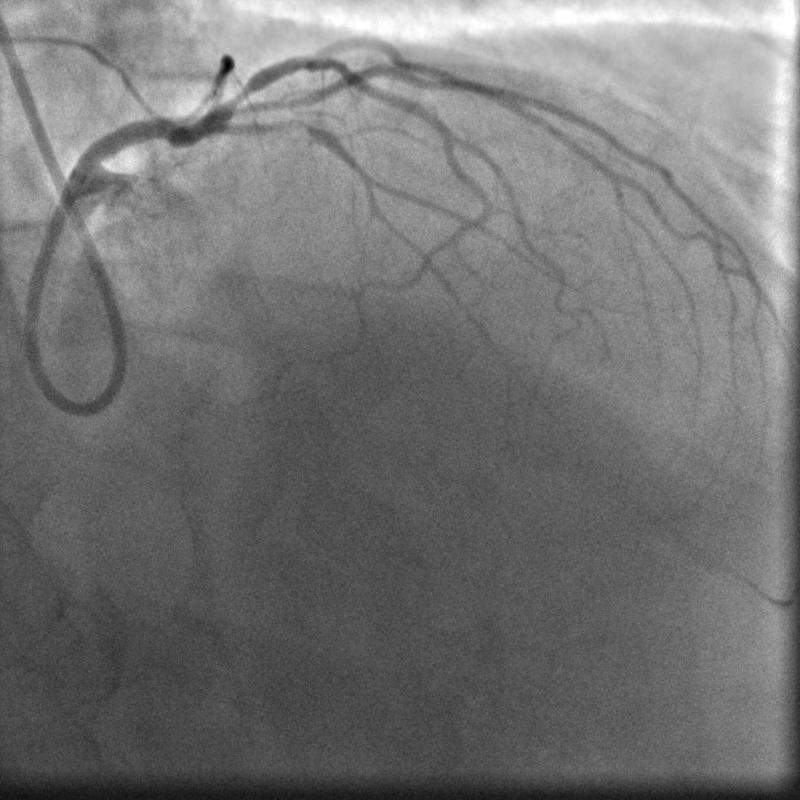Stenosis: (222, 82, 254, 106)
